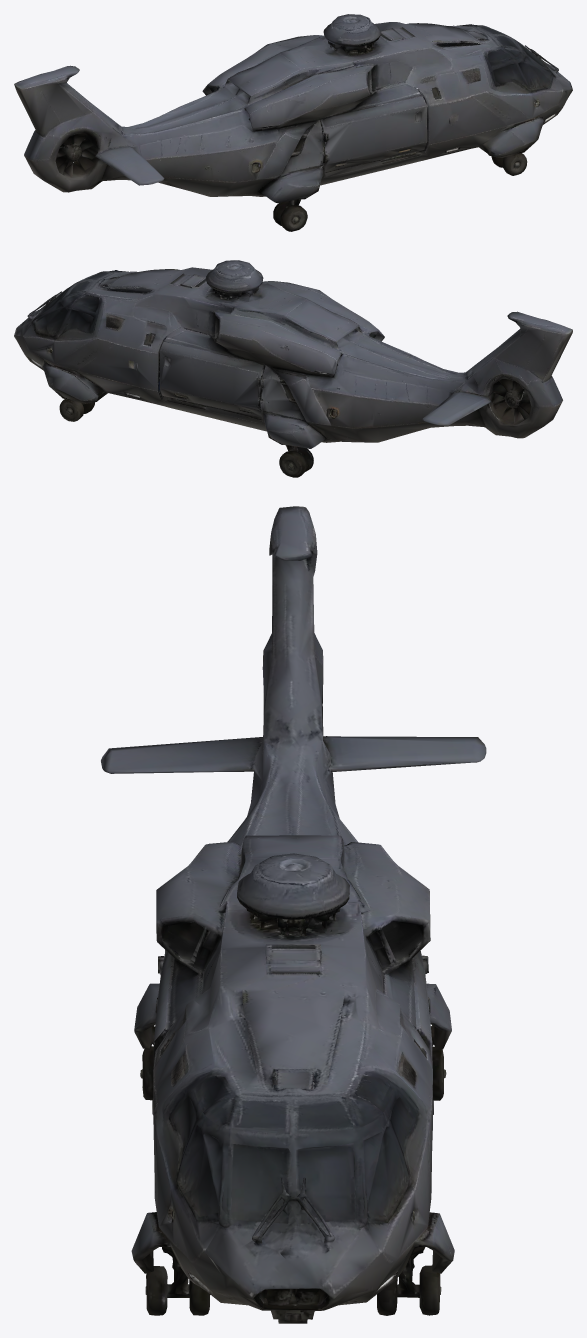
Rendered from heli_stealth.glb.
3 renders of one model, top to bottom at view 1: azimuth 30°, elevation 25°; view 2: azimuth 150°, elevation 25°; view 3: azimuth 270°, elevation 25°, orthographic. The views are drawn at different scales.
Parts seen in each view (by area): view 1: geometry_0; view 2: geometry_0; view 3: geometry_0.
Part boxes in pixels (x1,y1,x2,y2): geometry_0: (14, 14, 572, 231); geometry_0: (14, 260, 572, 477); geometry_0: (101, 506, 486, 1323).
Size of the model in its own units: 1.15 by 0.3637 by 0.3505.
Materials: 1 (1 with a texture image).
